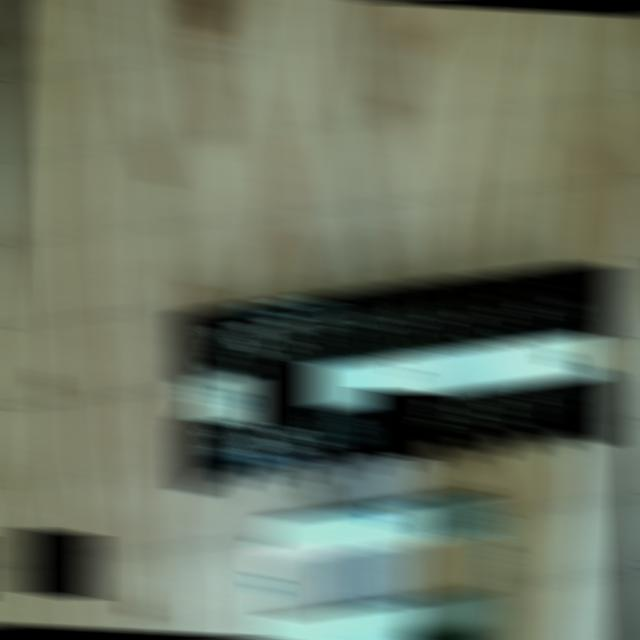Phillips_Block: (156, 264, 640, 494)
